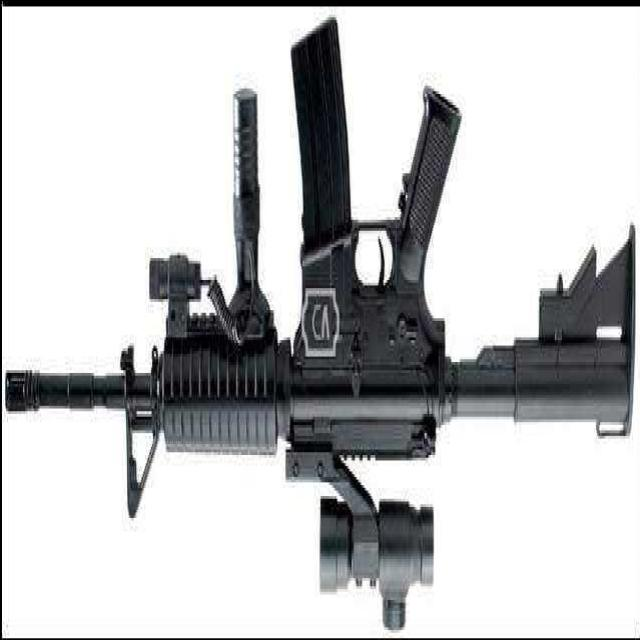heavyweapon: (2, 48, 637, 622)
